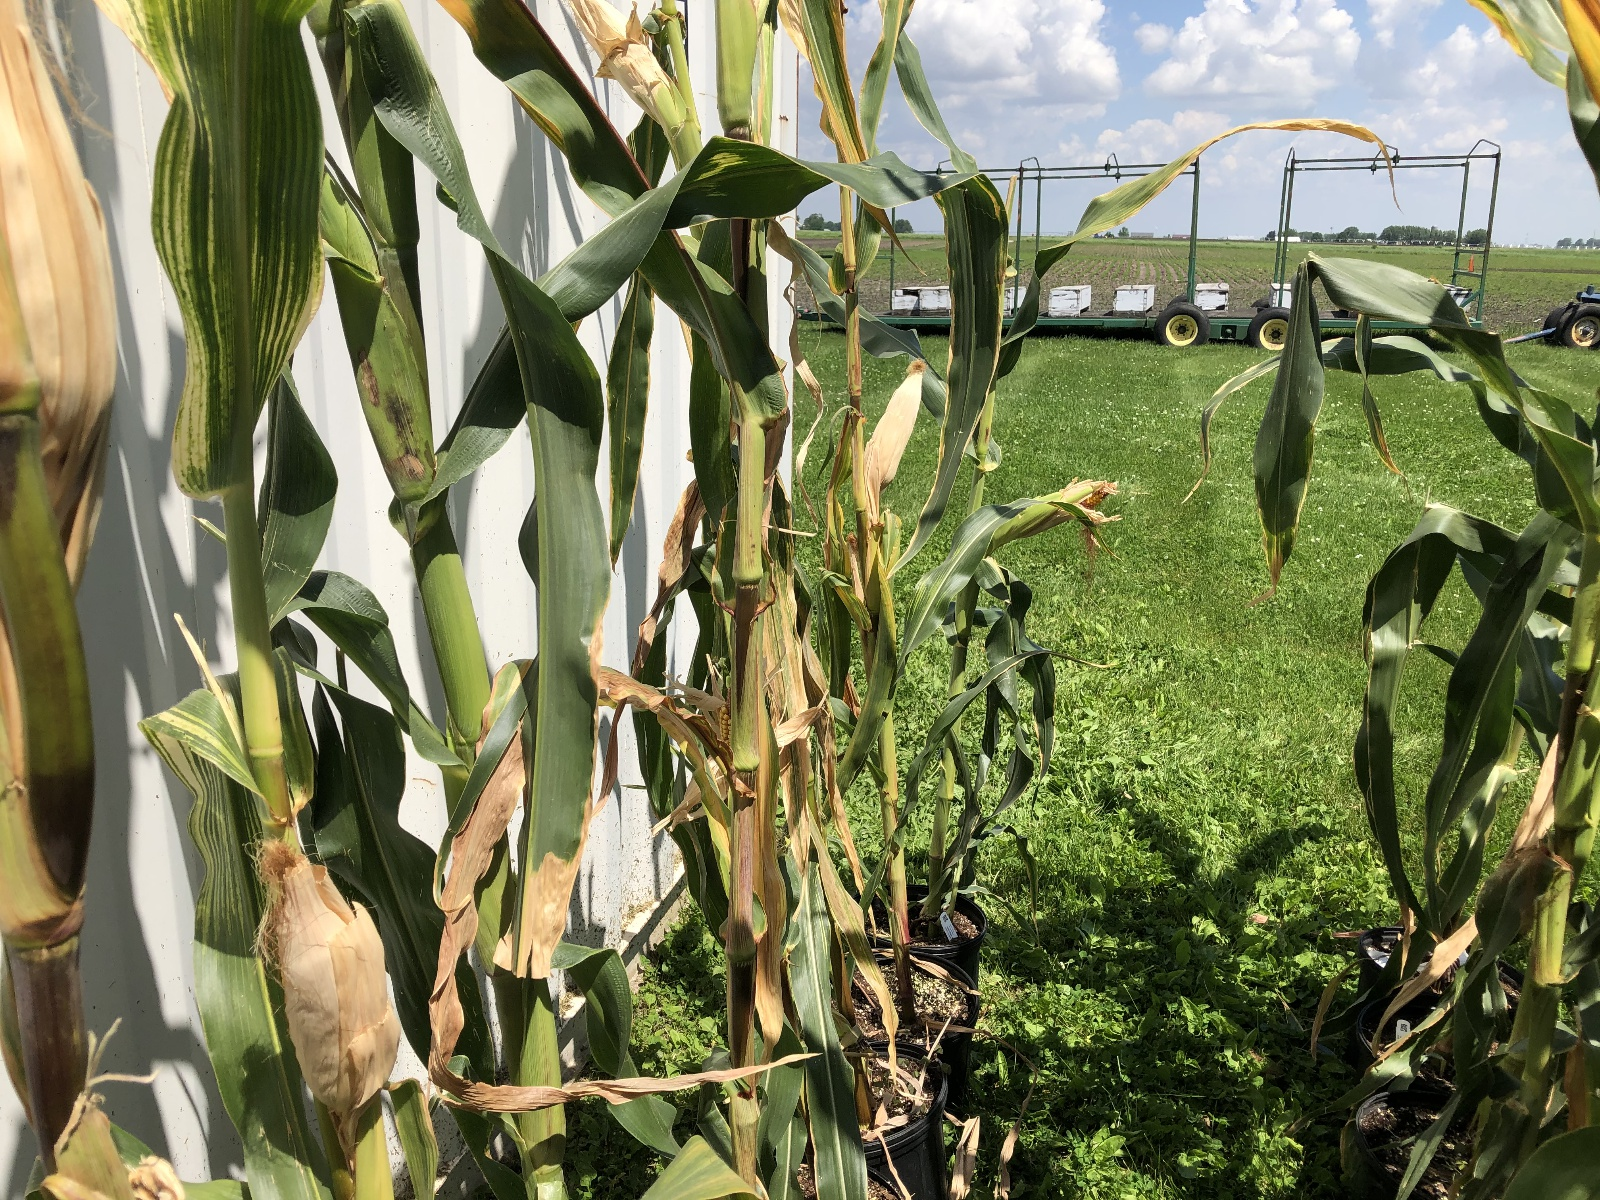ear: (5, 21, 125, 425), (247, 833, 391, 1112), (561, 1, 678, 113), (847, 350, 929, 494), (986, 470, 1125, 545), (713, 681, 734, 750)
